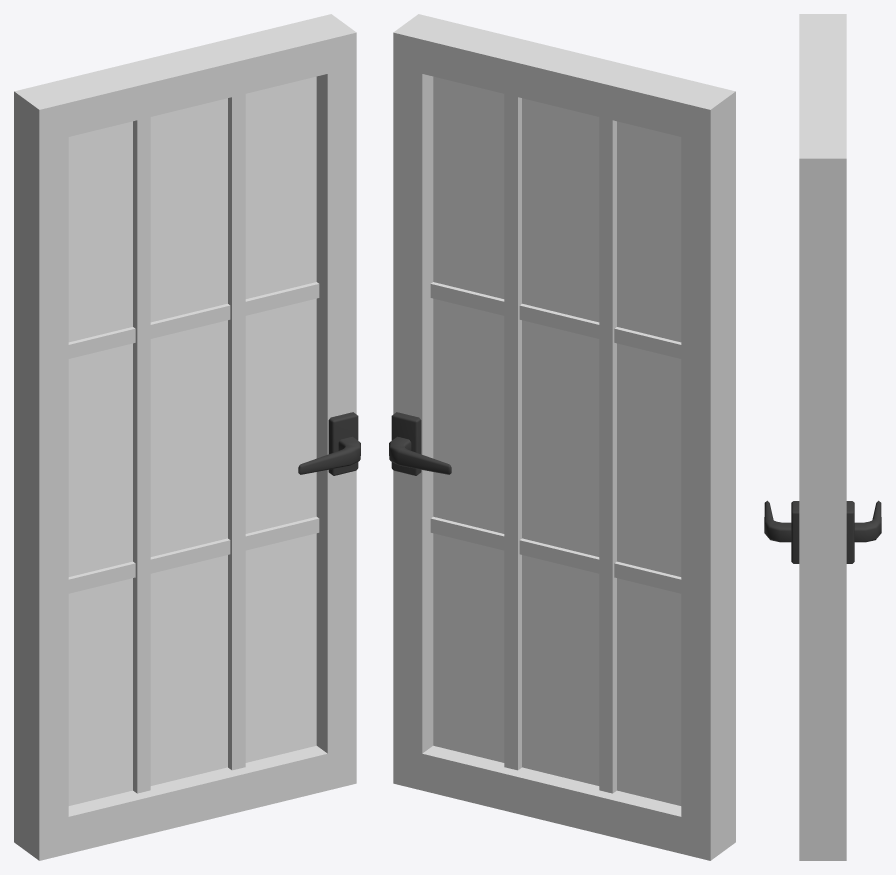
The model's file is door_015.fbx.
3 views of the same model, side by side, from view 1: azimuth 30°, elevation 25°; view 2: azimuth 150°, elevation 25°; view 3: azimuth 270°, elevation 25° (orthographic). The views are drawn at different scales.
Parts seen in each view (by area): view 1: door_015; view 2: door_015; view 3: door_015.
Part boxes in pixels (bbox=[...]): door_015: bbox=[14, 14, 360, 860]; door_015: bbox=[389, 14, 735, 860]; door_015: bbox=[764, 14, 881, 860].
Size of the model in its own units: 95.15 by 32.58 by 215.
